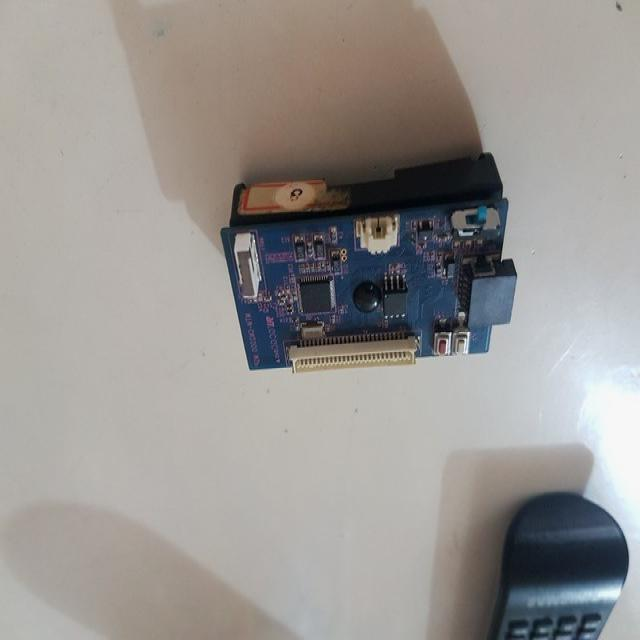TelosB: (222, 154, 517, 373)
